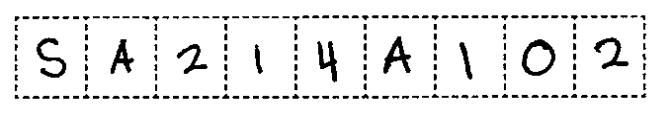0: (516, 33, 562, 79)
1: (448, 37, 480, 82), (241, 37, 272, 80)
2: (590, 34, 635, 78), (170, 37, 212, 79)
4: (308, 37, 352, 89)
A: (380, 34, 420, 82), (103, 35, 142, 81)
S: (31, 34, 71, 82)
